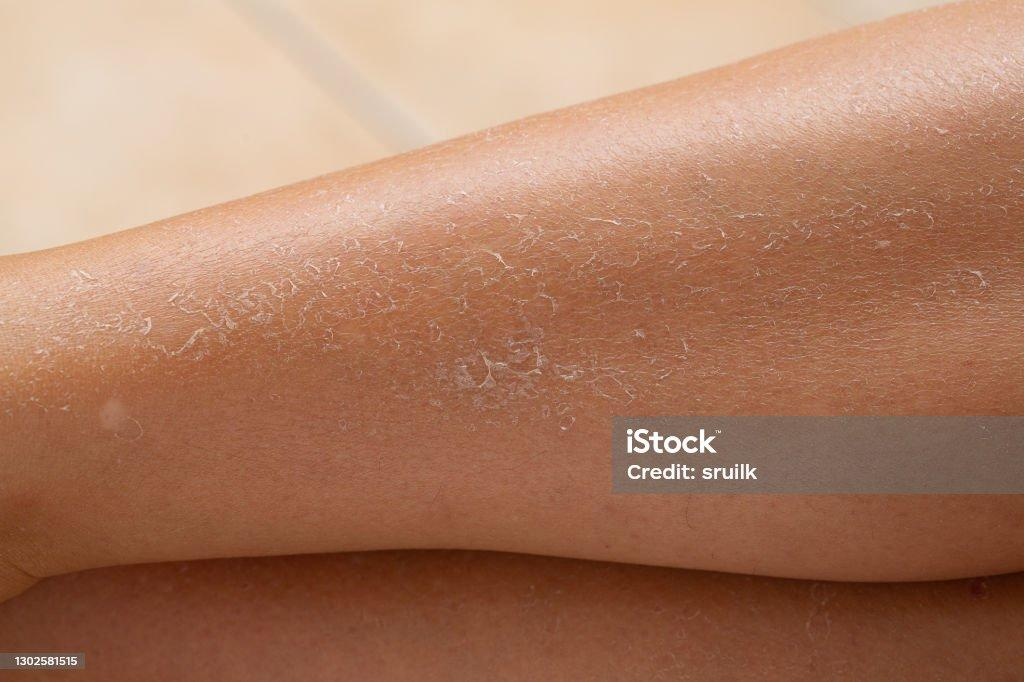Dry-Skin: (538, 155, 802, 338), (452, 167, 663, 345), (482, 393, 607, 648), (55, 258, 218, 438), (905, 30, 1024, 213), (777, 148, 1022, 233), (255, 292, 373, 352)
